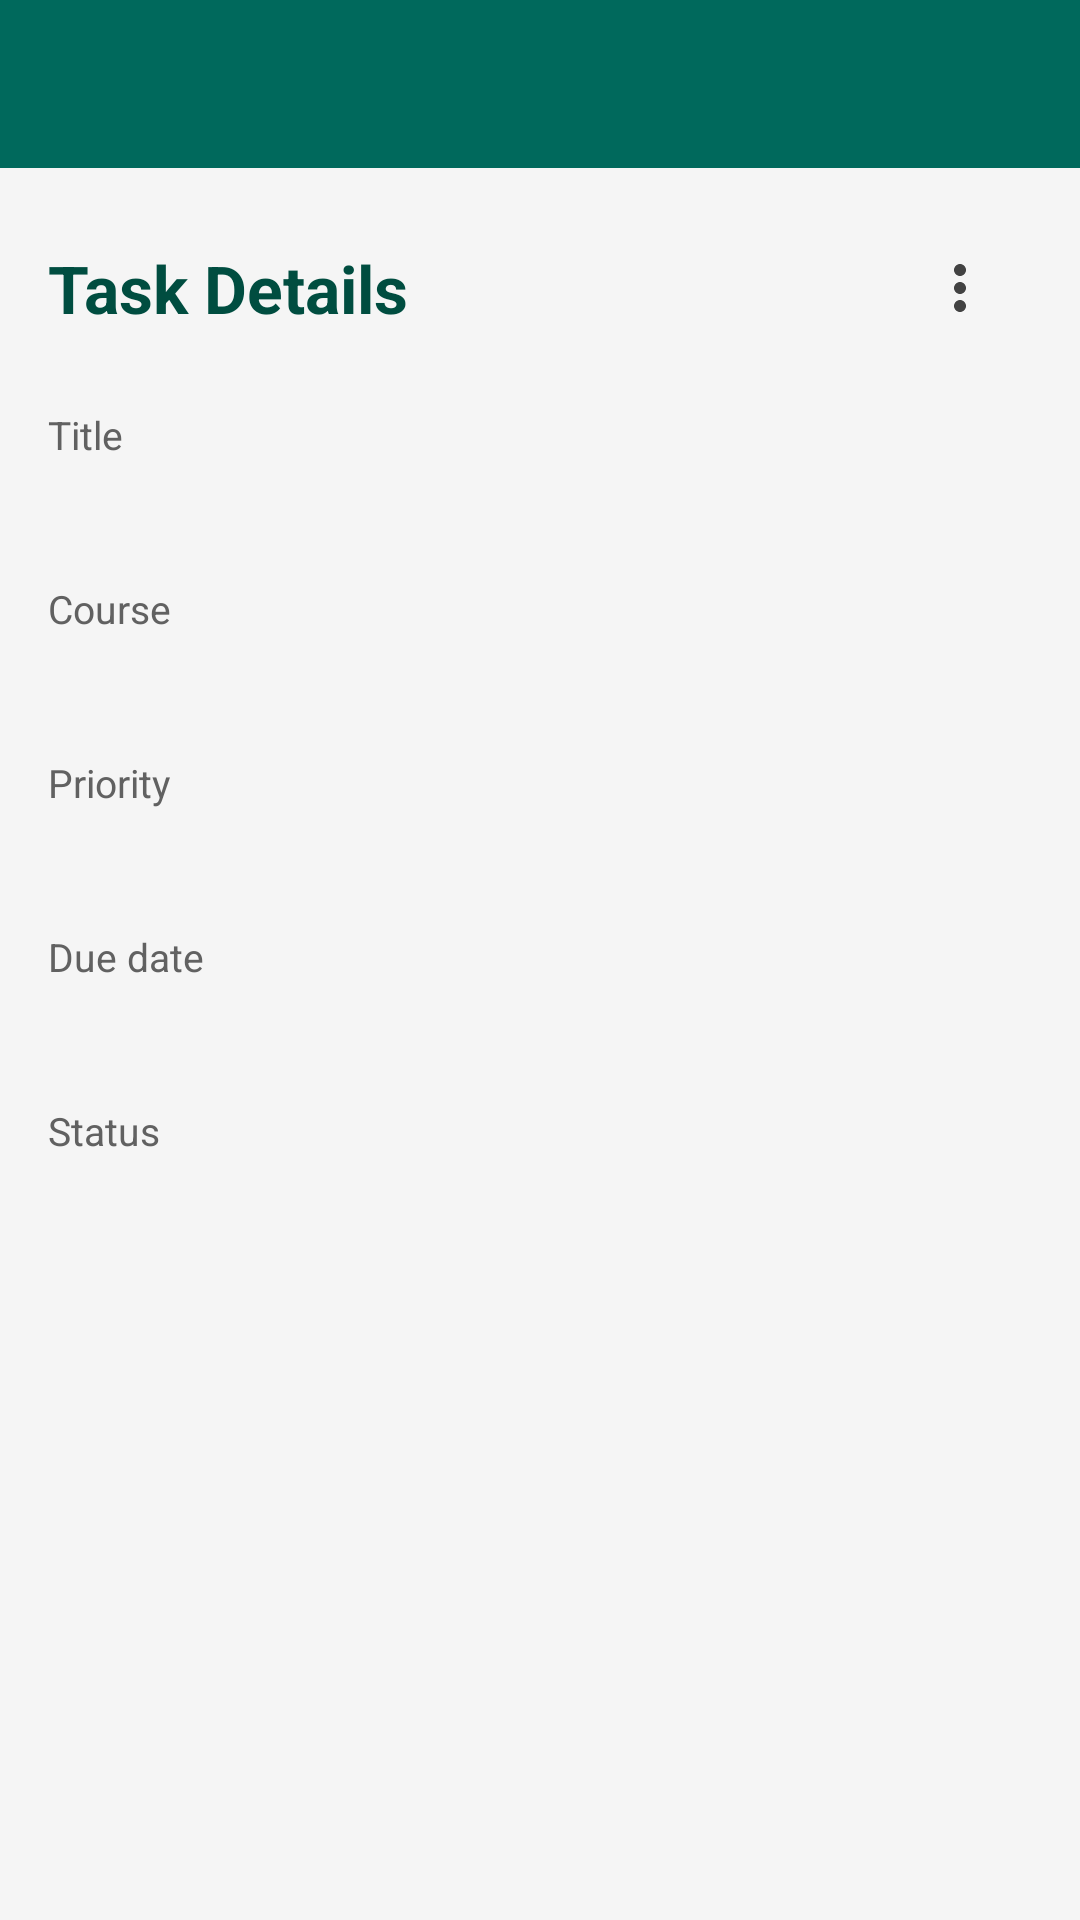

Locate icon controls on the screen. Image size 1080 × 1920, boxes as box(x1, y1, x2, y2).
More options: box(954, 264, 966, 312)
